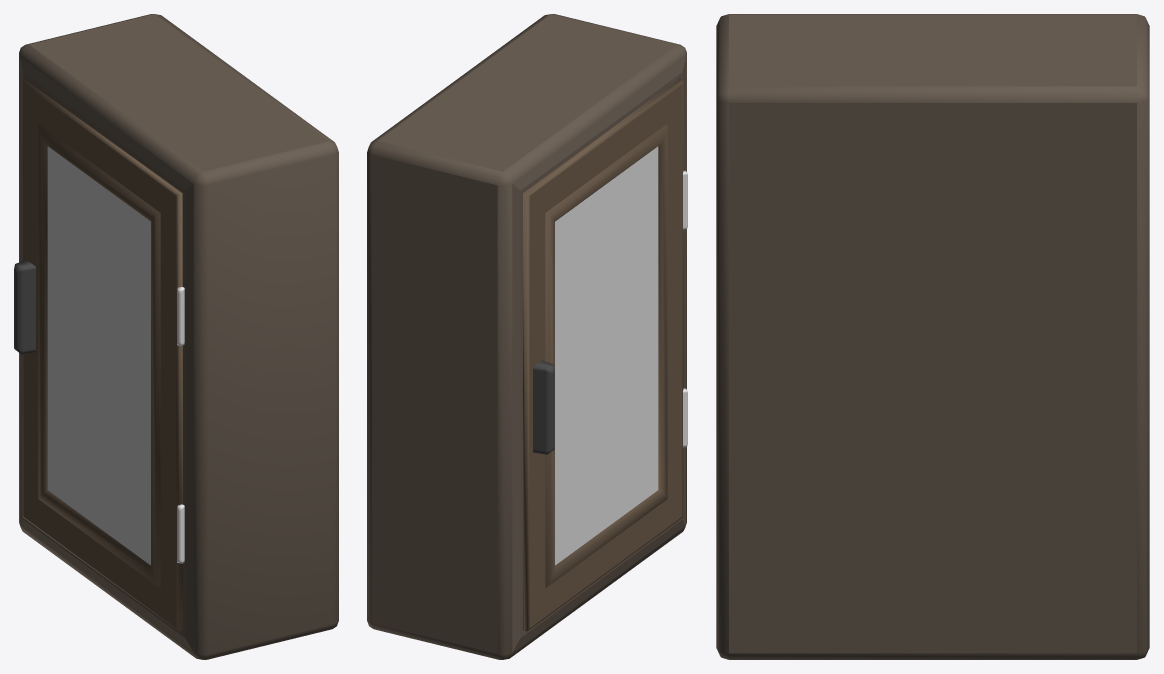
Rendered from cabinet_mirror.glb.
3 renders of one model, left to right at view 1: azimuth 30°, elevation 25°; view 2: azimuth 150°, elevation 25°; view 3: azimuth 270°, elevation 25°, orthographic. The views are drawn at different scales.
Visible parts, largest first — view 1: CabinetMirror; view 2: CabinetMirror; view 3: CabinetMirror.
Boxes of the visible parts, x1,y1,x2,y2 form: CabinetMirror: (14,14,338,659); CabinetMirror: (367,14,687,659); CabinetMirror: (716,14,1149,659).
Bounding box in the file's own units: 0.2385 × 0.6667 × 0.4565.
